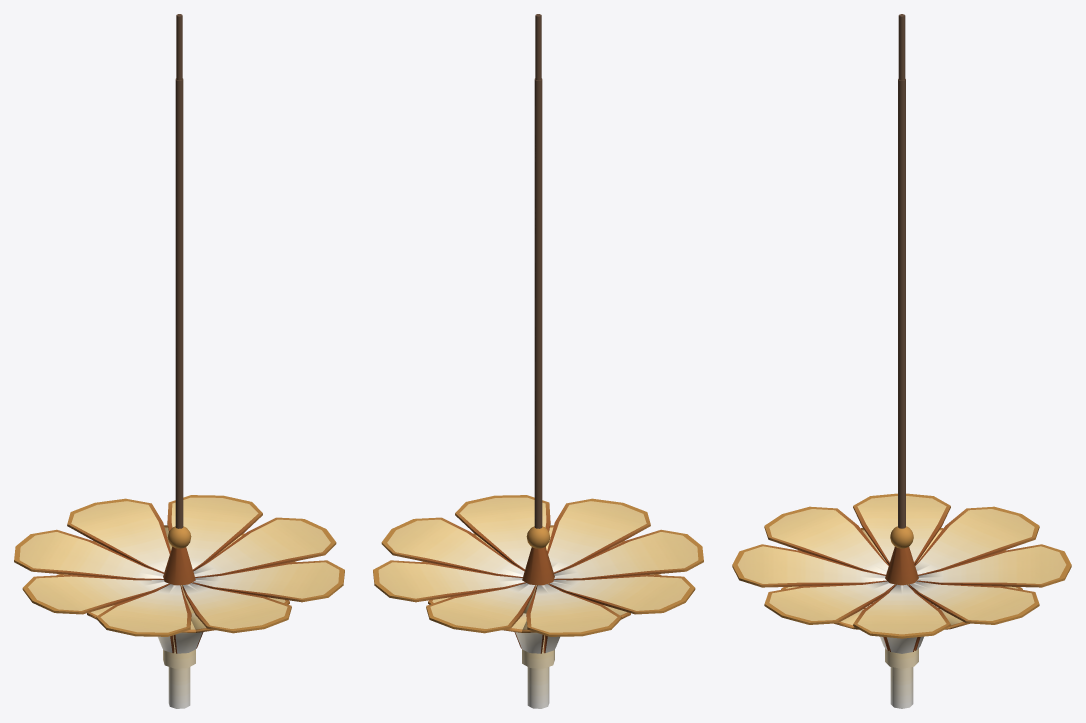
The model's file is Chandelier.fbx.
3 views of the same model, side by side, from view 1: azimuth 30°, elevation 25°; view 2: azimuth 150°, elevation 25°; view 3: azimuth 270°, elevation 25° (orthographic).
Visible parts, largest first — view 1: FlowerDesign_001.001, Cylinder.008, CylidricalHangingLight.132, FlowerDesign_001.003, CylidricalHangingLight.135, FlowerDesign_001.004, CylidricalHangingLight.133, CylidricalHangingLight.136, CylidricalHangingLight.137, CylidricalHangingLight.134; view 2: FlowerDesign_001.001, Cylinder.008, FlowerDesign_001.003, CylidricalHangingLight.132, CylidricalHangingLight.137, CylidricalHangingLight.133, CylidricalHangingLight.135, FlowerDesign_001.004, CylidricalHangingLight.134, CylidricalHangingLight.136, CylidricalHangingLight.138; view 3: FlowerDesign_001.001, Cylinder.008, FlowerDesign_001.004, CylidricalHangingLight.132, FlowerDesign_001.003, CylidricalHangingLight.133, CylidricalHangingLight.134.
Boxes of the visible parts, <box> form: FlowerDesign_001.001: <box>14,495,344,636</box>; Cylinder.008: <box>163,547,195,708</box>; CylidricalHangingLight.132: <box>175,78,183,163</box>; FlowerDesign_001.003: <box>158,632,203,653</box>; CylidricalHangingLight.135: <box>175,272,183,355</box>; FlowerDesign_001.004: <box>56,525,296,632</box>; CylidricalHangingLight.133: <box>175,144,183,227</box>; CylidricalHangingLight.136: <box>175,336,183,419</box>; CylidricalHangingLight.137: <box>175,400,183,483</box>; CylidricalHangingLight.134: <box>175,208,183,291</box>; FlowerDesign_001.001: <box>373,495,703,636</box>; Cylinder.008: <box>522,547,554,708</box>; FlowerDesign_001.003: <box>514,632,559,653</box>; CylidricalHangingLight.132: <box>534,78,542,163</box>; CylidricalHangingLight.137: <box>534,400,542,483</box>; CylidricalHangingLight.133: <box>534,144,542,227</box>; CylidricalHangingLight.135: <box>534,272,542,355</box>; FlowerDesign_001.004: <box>421,525,661,632</box>; CylidricalHangingLight.134: <box>534,208,542,291</box>; CylidricalHangingLight.136: <box>534,336,542,418</box>; CylidricalHangingLight.138: <box>534,464,542,528</box>; FlowerDesign_001.001: <box>732,493,1071,638</box>; Cylinder.008: <box>885,547,918,708</box>; FlowerDesign_001.004: <box>781,528,1022,629</box>; CylidricalHangingLight.132: <box>898,79,905,163</box>; FlowerDesign_001.003: <box>880,636,923,653</box>; CylidricalHangingLight.133: <box>898,144,905,227</box>; CylidricalHangingLight.134: <box>898,208,905,291</box>.
Size of what is drawn, in the model's own units: 2205 by 4937 by 2205.
